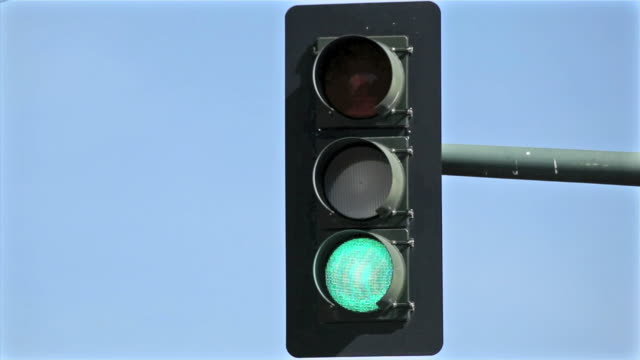pole: (443, 145, 640, 188)
traffic light: (284, 3, 443, 354)
